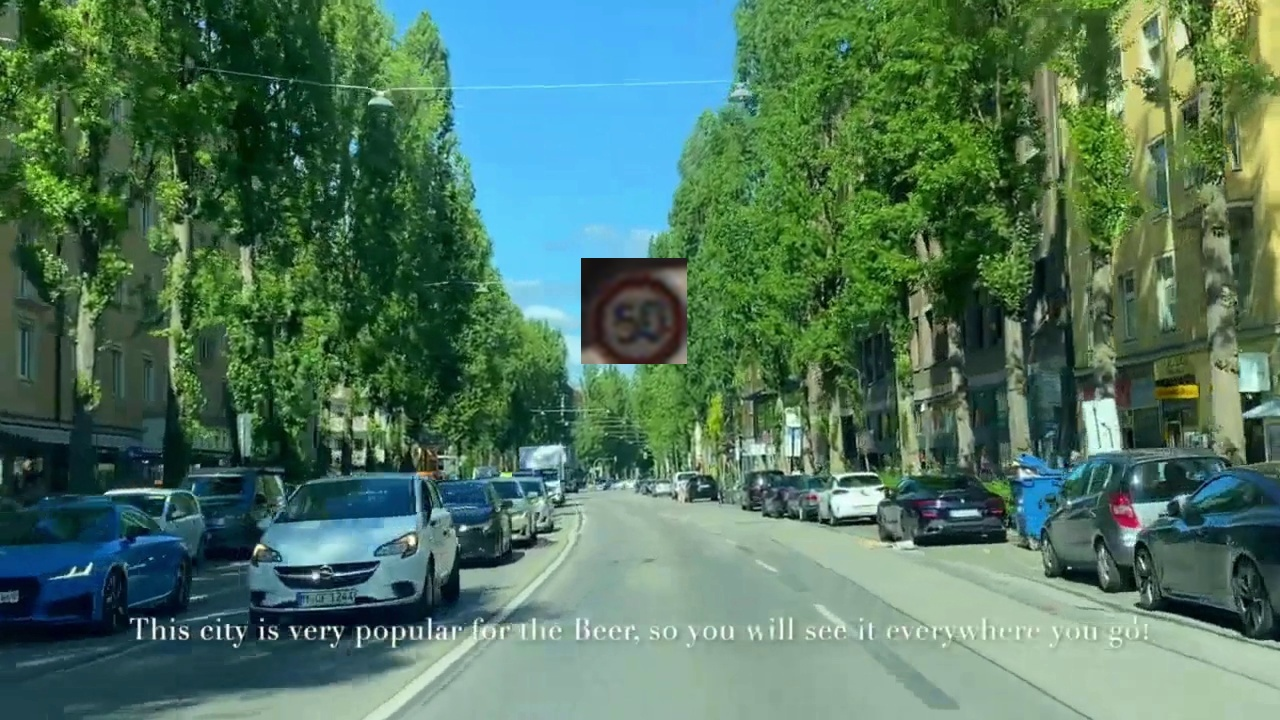Speed 50: (581, 258, 687, 364)
